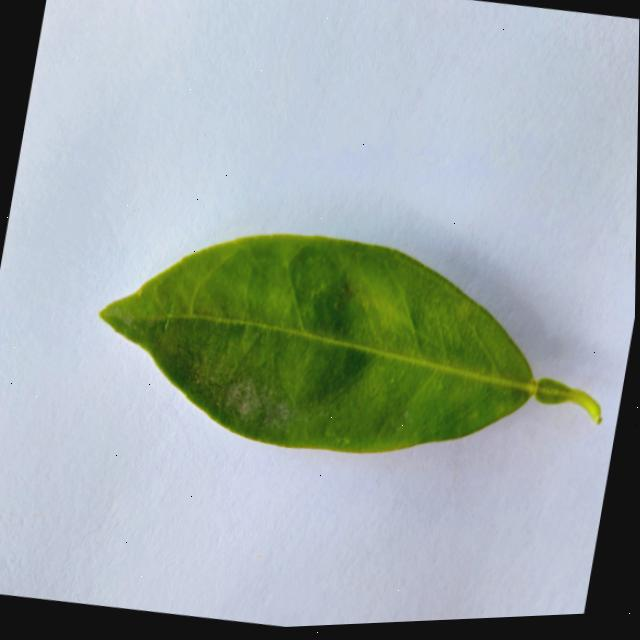greening: (100, 234, 601, 451)
